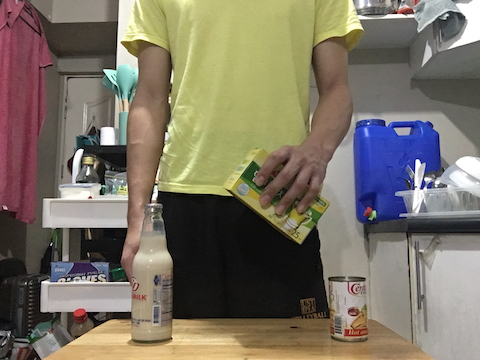bottle: (126, 198, 175, 346)
box: (223, 143, 339, 245)
can: (323, 272, 375, 344)
grab: (256, 141, 327, 215)
